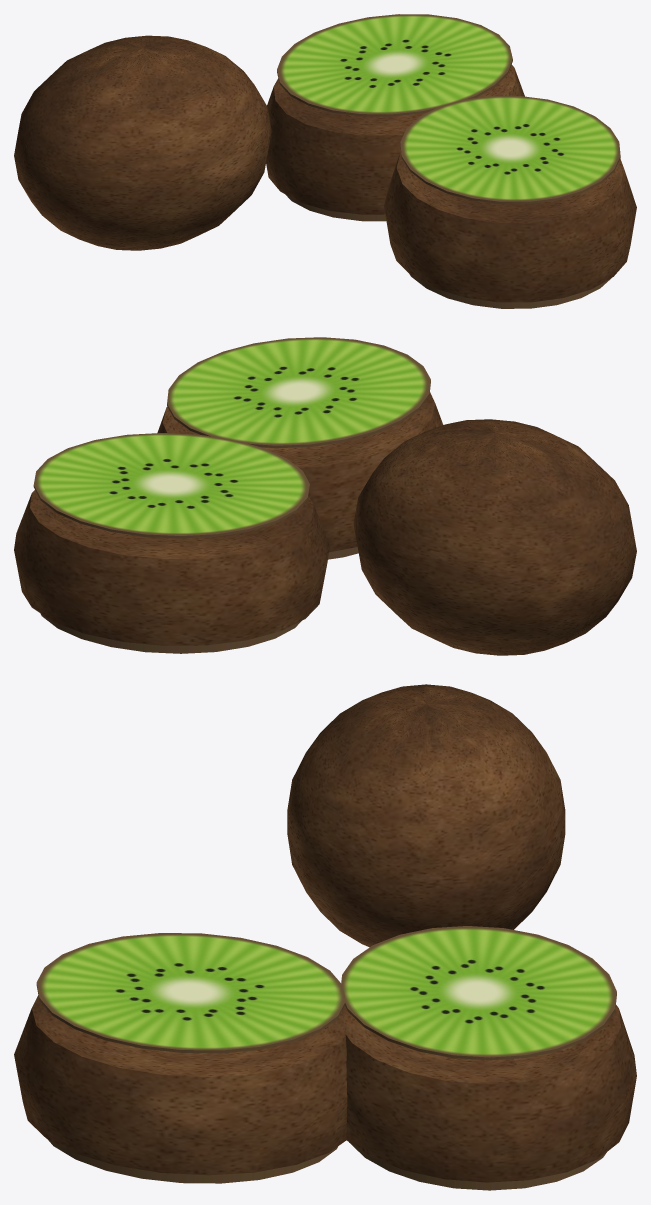
Rendered from fruit_kiwi_halves.glb.
3 renders of one model, top to bottom at view 1: azimuth 30°, elevation 25°; view 2: azimuth 150°, elevation 25°; view 3: azimuth 270°, elevation 25°, orthographic. The views are drawn at different scales.
Parts seen in each view (by area): view 1: fruit_kiwi_halves; view 2: fruit_kiwi_halves; view 3: fruit_kiwi_halves.
Part boxes in pixels (<box>): fruit_kiwi_halves: <box>14,14,636,308</box>; fruit_kiwi_halves: <box>14,337,636,655</box>; fruit_kiwi_halves: <box>14,684,636,1190</box>.
Bounding box in the file's own units: 0.1411 × 0.054 × 0.1192.
Materials: 2 (2 with a texture image).
